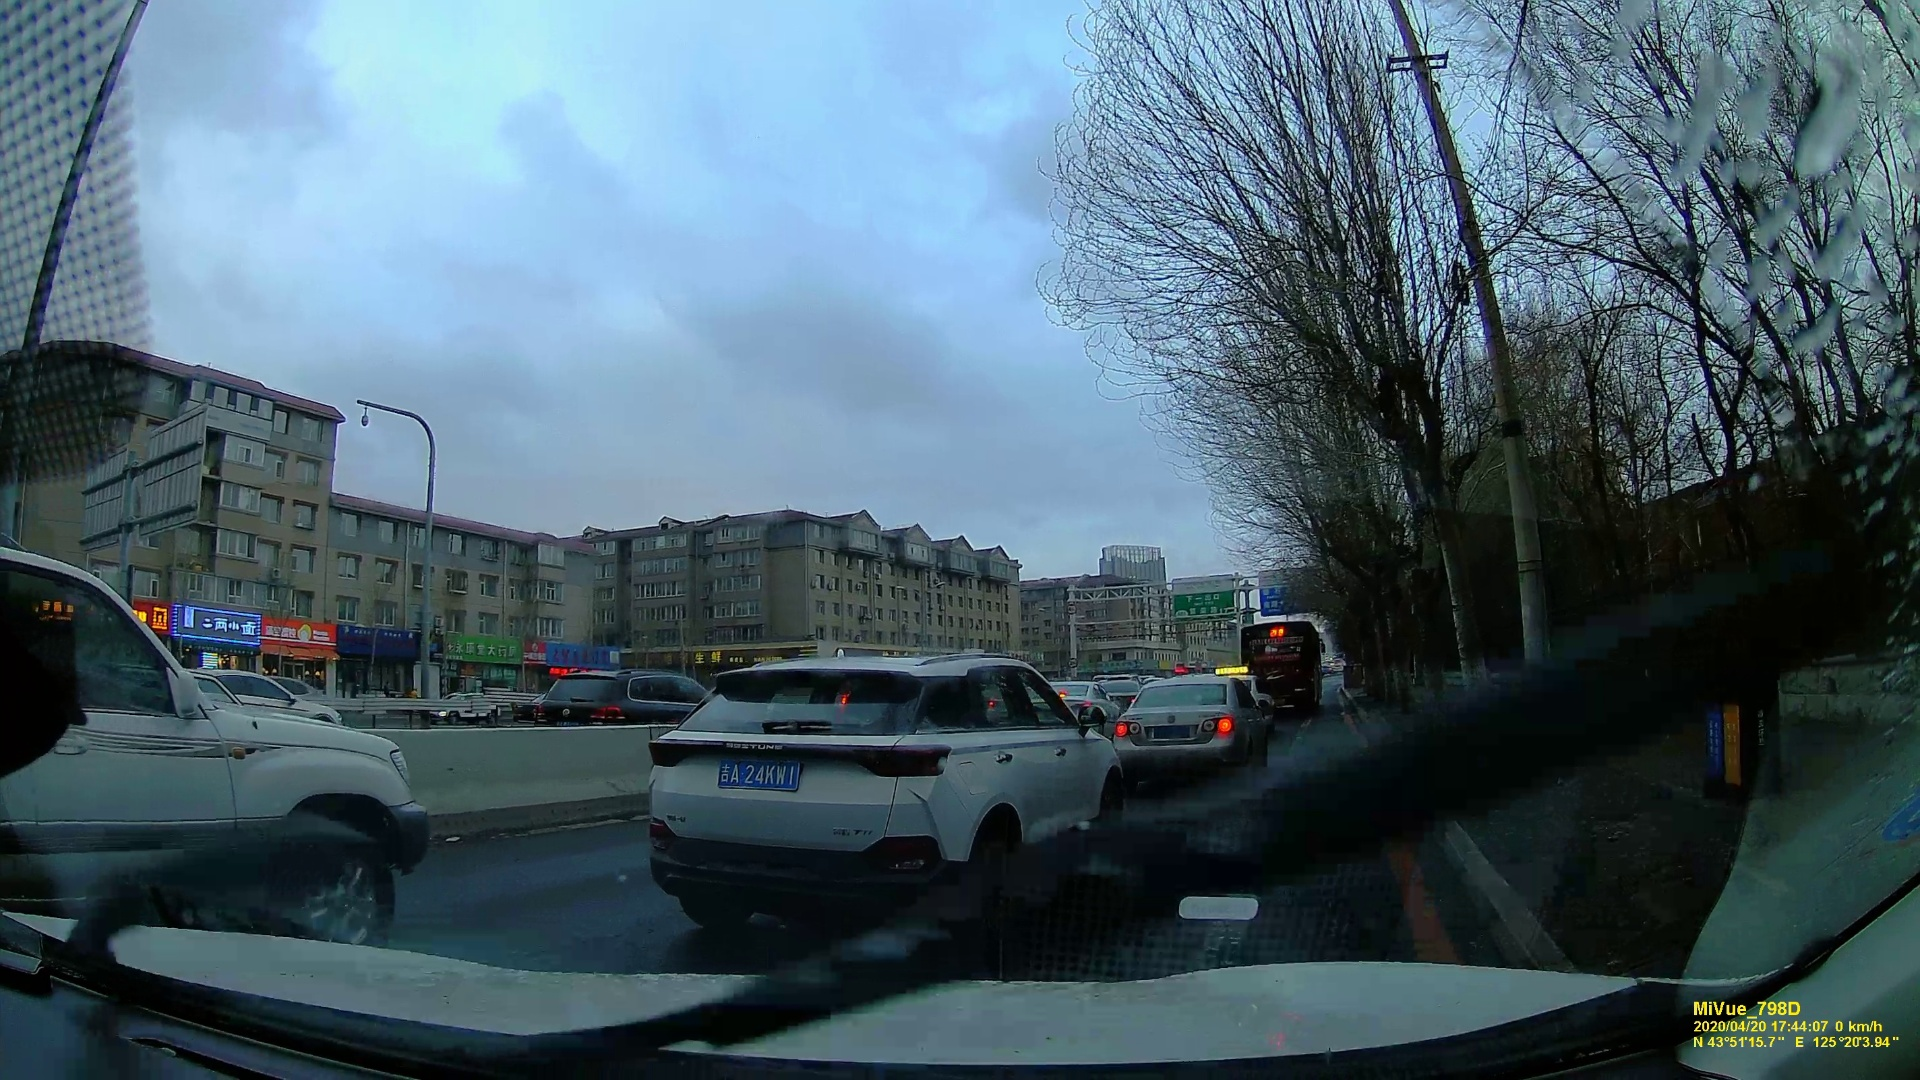bus: (1236, 622, 1325, 717)
traffic_sign: (1171, 574, 1234, 622), (1258, 568, 1324, 611)
vehicle: (1, 555, 433, 944), (640, 647, 1122, 927), (1120, 676, 1271, 777), (535, 661, 691, 729)
